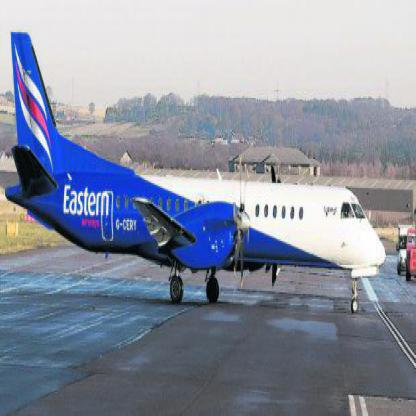CIV_Plane: (1, 19, 390, 316)
